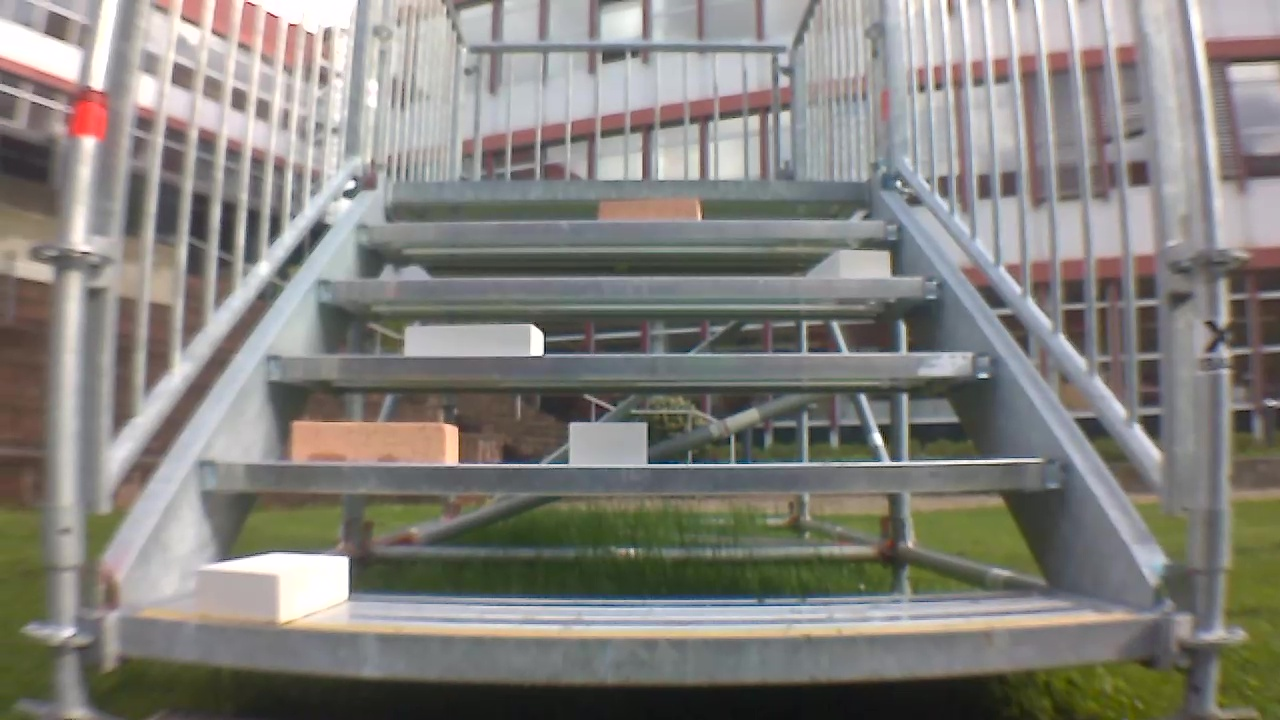brick: (198, 556, 359, 623), (287, 426, 459, 463), (402, 321, 548, 359), (565, 422, 650, 471), (599, 196, 703, 226), (806, 249, 896, 279)
edge: (117, 610, 1173, 664), (190, 455, 1077, 495), (262, 352, 997, 383), (306, 275, 945, 306), (352, 216, 907, 247), (390, 179, 872, 201)
stairs: (55, 0, 1215, 712)
steps: (112, 176, 1195, 672)
